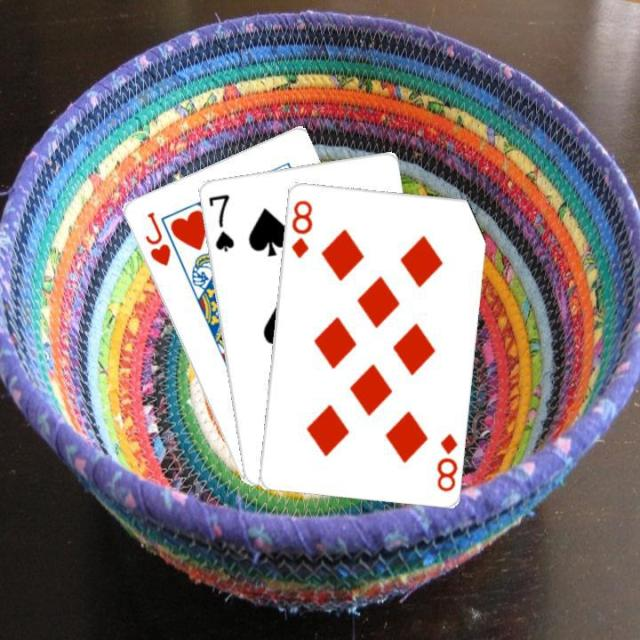7S: (203, 190, 236, 253)
8D: (432, 428, 459, 494), (287, 196, 314, 260)
JH: (140, 207, 172, 268)
